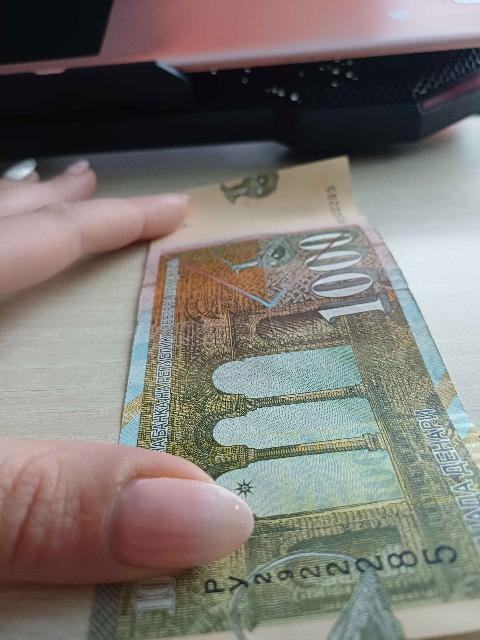1000_note: (90, 166, 479, 639)
